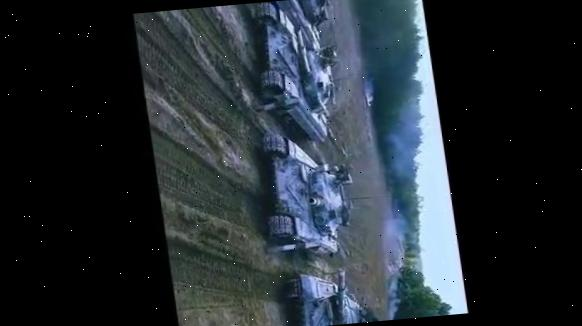tank: (245, 0, 346, 146), (257, 130, 359, 260), (276, 269, 368, 326), (260, 0, 338, 51)
